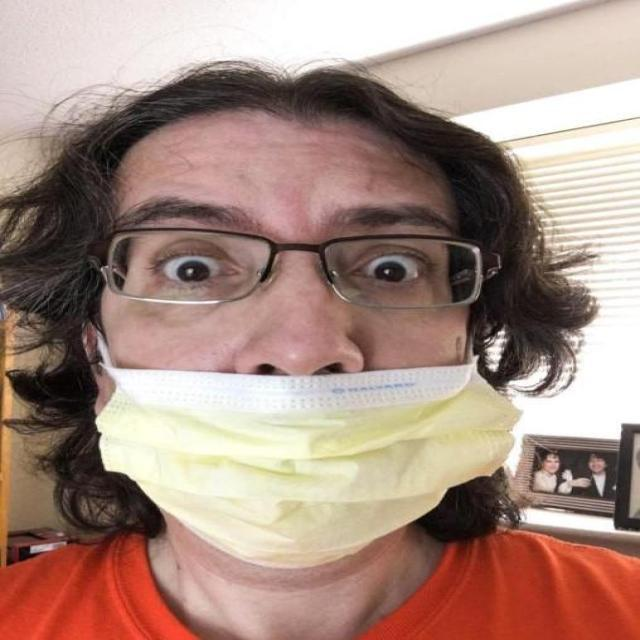hairnet: (76, 144, 486, 591)
